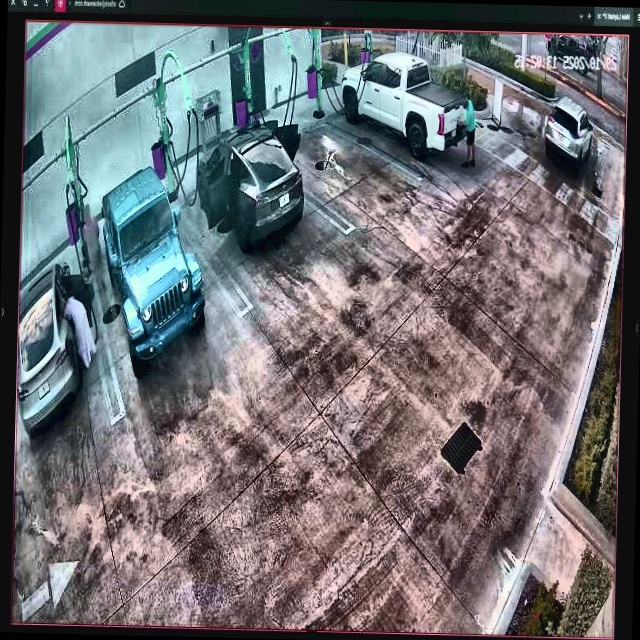Car: (99, 170, 207, 373), (194, 113, 303, 249)
